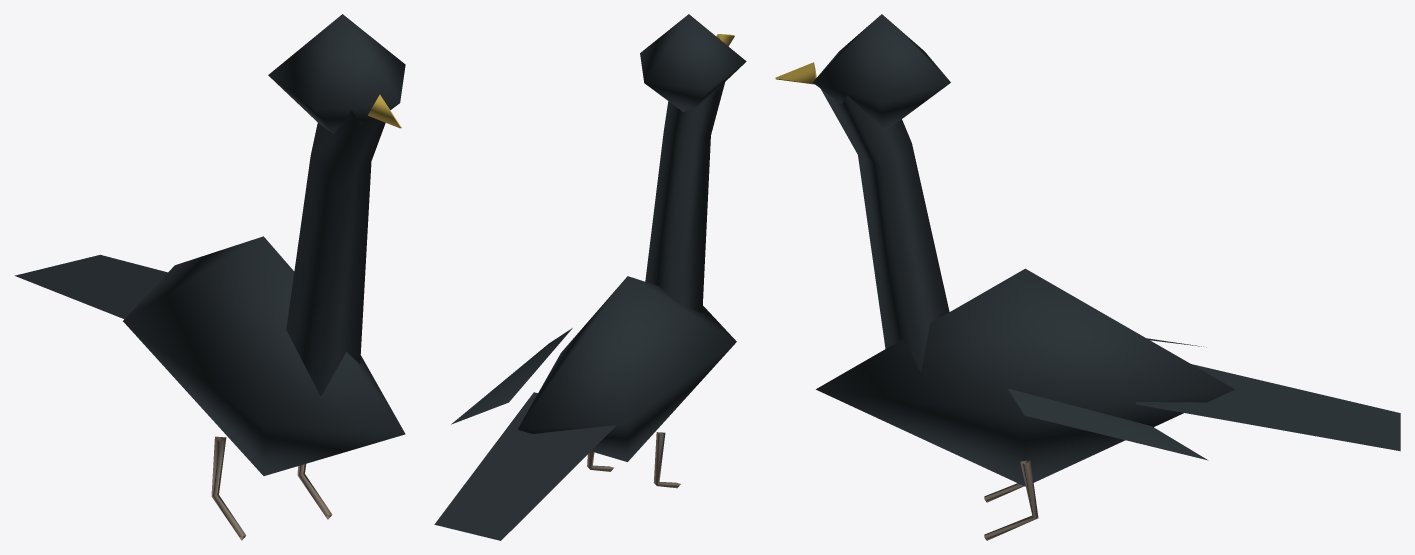
Rendered from cormorant-1.glb.
3 renders of one model, left to right at view 1: azimuth 30°, elevation 25°; view 2: azimuth 150°, elevation 25°; view 3: azimuth 270°, elevation 25°, orthographic. The views are drawn at different scales.
Parts seen in each view (by area): view 1: cormorant; view 2: cormorant; view 3: cormorant.
Boxes of the visible parts, x1,y1,x2,y2 form: cormorant: (14, 14, 405, 540); cormorant: (434, 14, 746, 540); cormorant: (775, 14, 1400, 540).
Size of the model in its own units: 0.2668 by 0.5587 by 0.6231.
